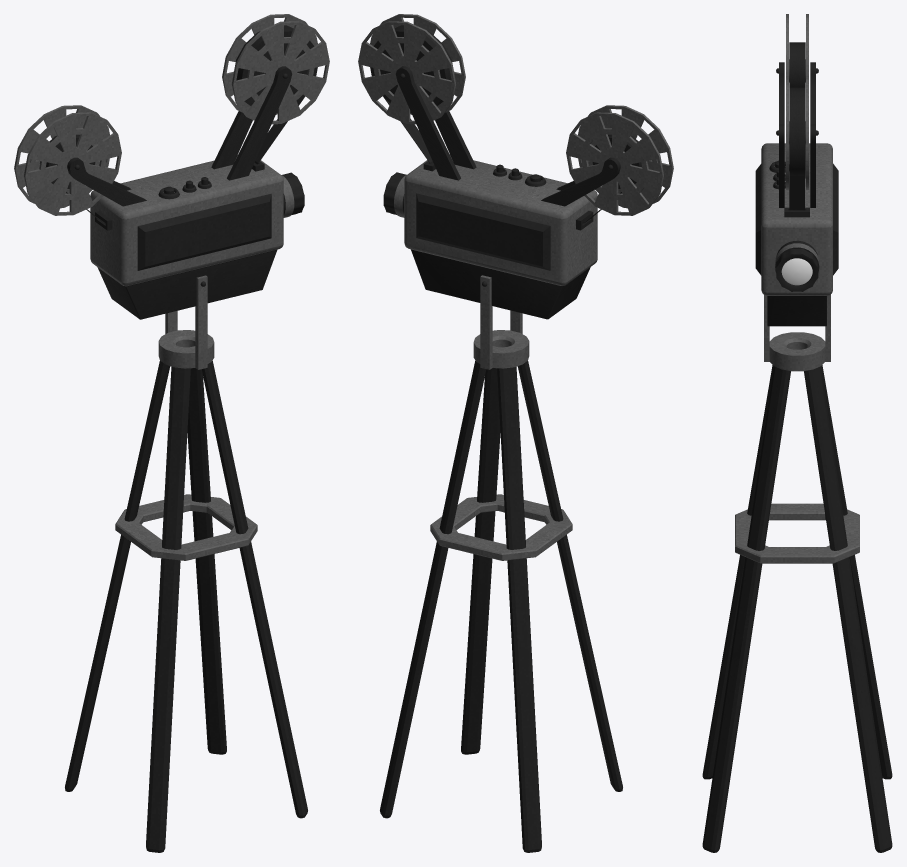
Rendered from projector_1.glb.
The picture shows the model from 3 angles, left to right: view 1: azimuth 30°, elevation 25°; view 2: azimuth 150°, elevation 25°; view 3: azimuth 270°, elevation 25°; orthographic projection.
Parts seen in each view (by area): view 1: projector_1, projector_1_body, projector_wheel_rear, projector_wheel_front; view 2: projector_1, projector_1_body, projector_wheel_rear, projector_wheel_front; view 3: projector_1, projector_1_body, projector_wheel_front, projector_wheel_rear.
Part boxes in pixels (x1,y1,x2,y2): projector_1: (65,275,307,852); projector_1_body: (66,66,305,319); projector_wheel_rear: (14,105,121,215); projector_wheel_front: (222,14,329,124); projector_1: (380,275,622,852); projector_1_body: (383,66,621,319); projector_wheel_rear: (566,105,673,215); projector_wheel_front: (358,14,465,124); projector_1: (702,294,892,852); projector_1_body: (755,62,838,326); projector_wheel_front: (786,76,808,189); projector_wheel_rear: (786,14,808,87).
Bounding box in the file's own units: 0.63 × 1.51 × 0.3337.
3 materials, 2 textured.
